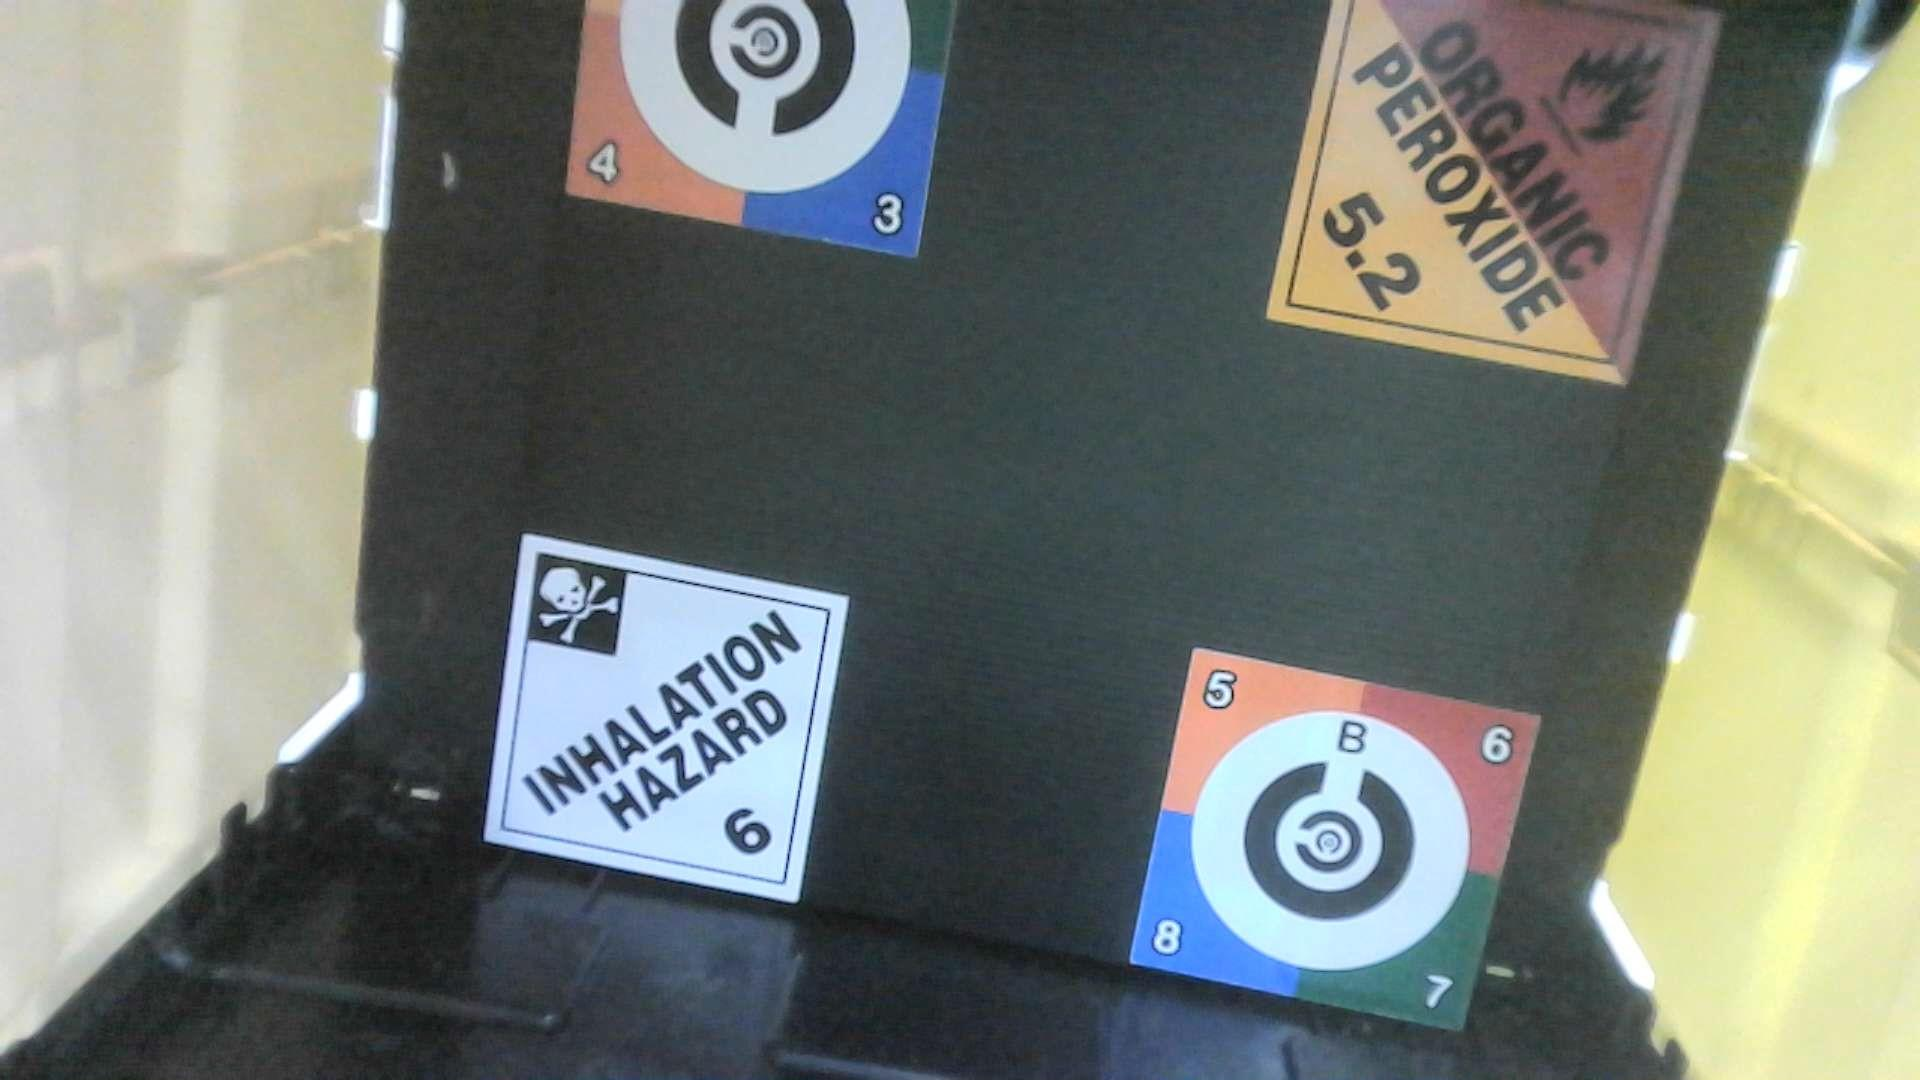organic-peroxide: (1262, 7, 1730, 382)
poison: (483, 534, 855, 902)
